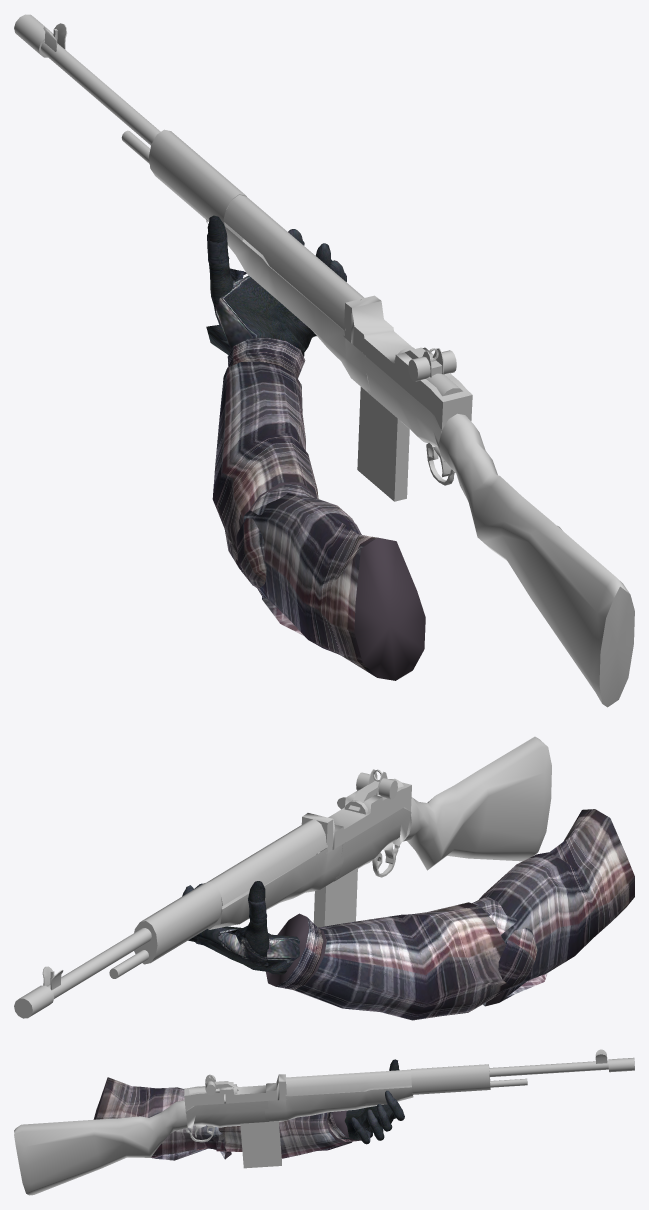
Rendered from m14_ads_fire.fbx.
3 views of the same model, one above another, from view 1: azimuth 30°, elevation 25°; view 2: azimuth 150°, elevation 25°; view 3: azimuth 270°, elevation 25° (orthographic). The views are drawn at different scales.
Visible parts, largest first — view 1: larm, m14_stock, m14_grip, m14_body, lhand, m14_clip, m14_barrels, m14_rearsight; view 2: larm, m14_stock, m14_grip, m14_body, lhand, m14_barrels, m14_clip, m14_rearsight, m14_trigger; view 3: m14_stock, larm, m14_grip, m14_body, lhand, m14_clip, m14_barrels, m14_rearsight.
Boxes of the visible parts, x1,y1,x2,y2 form: larm: (212, 337, 425, 680); m14_stock: (439, 413, 634, 707); m14_grip: (149, 129, 370, 392); m14_body: (343, 295, 472, 462); lhand: (206, 215, 346, 356); m14_clip: (357, 387, 409, 501); m14_barrels: (14, 14, 160, 163); m14_rearsight: (405, 347, 456, 381); larm: (266, 809, 634, 1020); m14_stock: (402, 736, 551, 870); m14_grip: (134, 818, 345, 964); m14_body: (301, 782, 411, 881); lhand: (182, 881, 299, 974); m14_barrels: (14, 928, 151, 1018); m14_clip: (313, 852, 357, 927); m14_rearsight: (348, 769, 397, 811); m14_trigger: (372, 842, 399, 877); m14_stock: (14, 1100, 187, 1195); larm: (93, 1077, 361, 1160); m14_grip: (264, 1064, 490, 1121); m14_body: (184, 1074, 287, 1128); lhand: (339, 1059, 404, 1144); m14_clip: (240, 1121, 281, 1168); m14_barrels: (489, 1057, 634, 1087); m14_rearsight: (205, 1074, 239, 1095).
Bounding box in the file's own units: 11.13 × 11.22 × 43.52.
